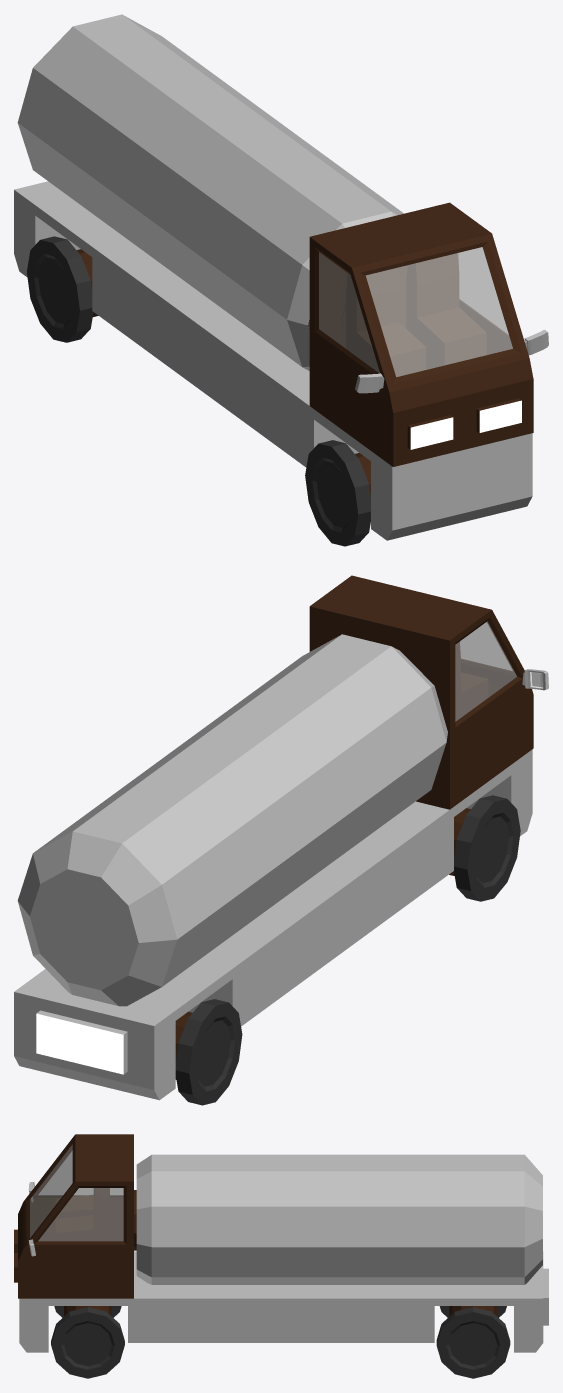
Rendered from cars3.glb.
3 views of the same model, one above another, from view 1: azimuth 30°, elevation 25°; view 2: azimuth 150°, elevation 25°; view 3: azimuth 270°, elevation 25° (orthographic). The views are drawn at different scales.
Visible parts, largest first — view 1: Car3, Car3Tire2, Car3Tire1; view 2: Car3, Car3Tire2, Car3Tire1; view 3: Car3, Car3Tire1, Car3Tire2.
Boxes of the visible parts, x1=… form: Car3: x1=14, y1=14, x2=548, y2=540; Car3Tire2: x1=27, y1=236, x2=98, y2=342; Car3Tire1: x1=305, y1=440, x2=370, y2=546; Car3: x1=14, y1=575, x2=548, y2=1100; Car3Tire2: x1=175, y1=999, x2=242, y2=1105; Car3Tire1: x1=449, y1=795, x2=520, y2=901; Car3: x1=14, y1=1134, x2=548, y2=1352; Car3Tire1: x1=51, y1=1306, x2=124, y2=1378; Car3Tire2: x1=436, y1=1306, x2=510, y2=1378.
Bounding box in the file's own units: 2.87 × 4 × 10.02.
